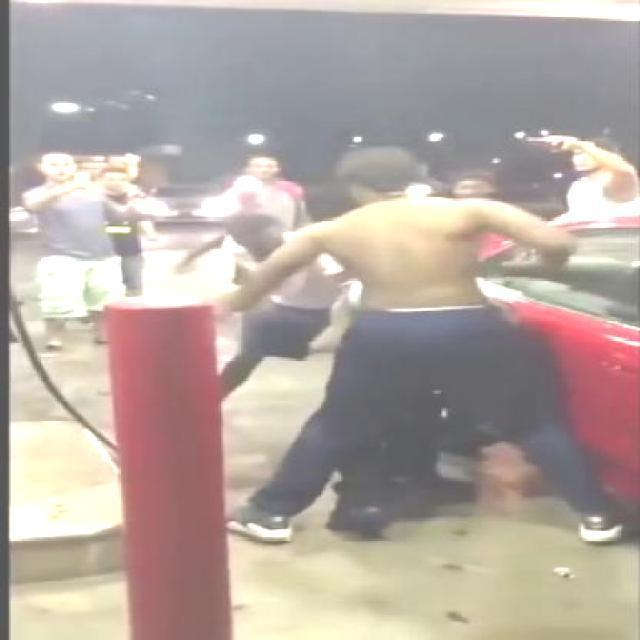fight: (174, 150, 638, 544)
non-fight: (20, 150, 146, 344)
